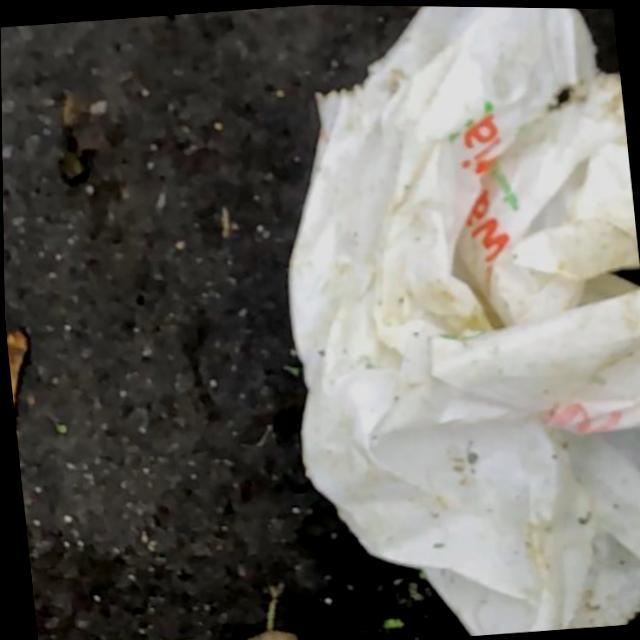Paper: (248, 3, 640, 640)
